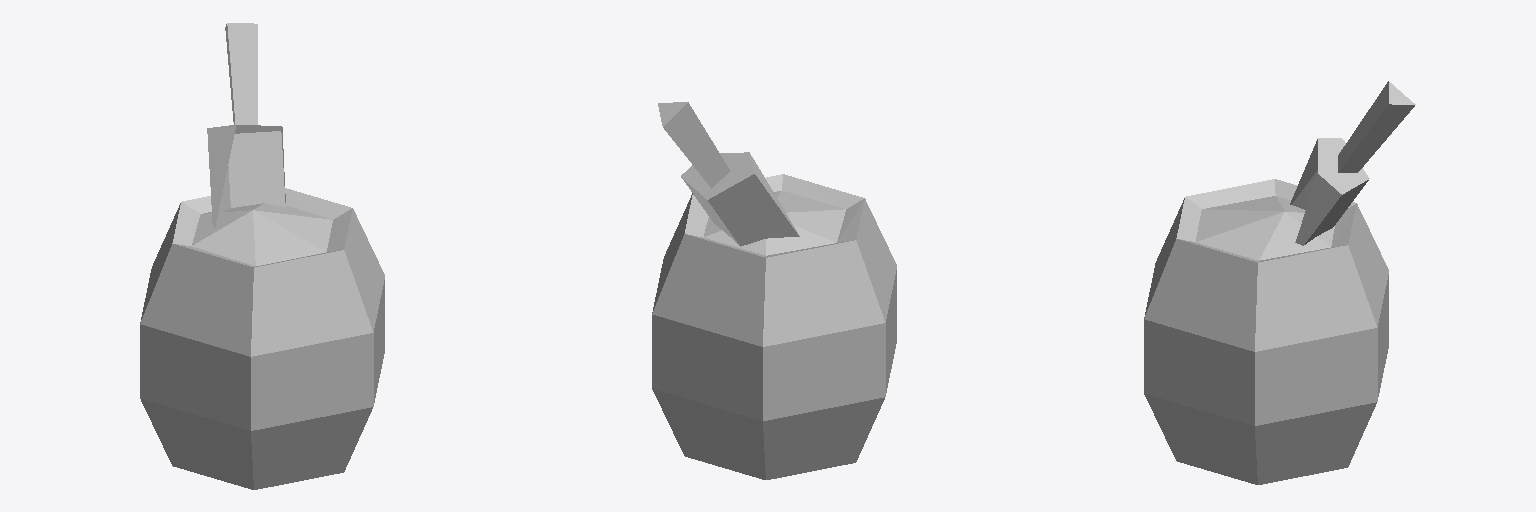
File: gunshoppowderkegopen.obj
3 views of the same model, side by side, from view 1: azimuth 30°, elevation 25°; view 2: azimuth 150°, elevation 25°; view 3: azimuth 270°, elevation 25° (orthographic).
Parts seen in each view (by area): view 1: GunShopPowderKegOpen; view 2: GunShopPowderKegOpen; view 3: GunShopPowderKegOpen.
Part boxes in pixels (bbox=[...]): GunShopPowderKegOpen: bbox=[140, 23, 384, 489]; GunShopPowderKegOpen: bbox=[652, 102, 896, 479]; GunShopPowderKegOpen: bbox=[1144, 81, 1415, 484].
Bounding box in the file's own units: 0.7113 × 1.09 × 0.7176.